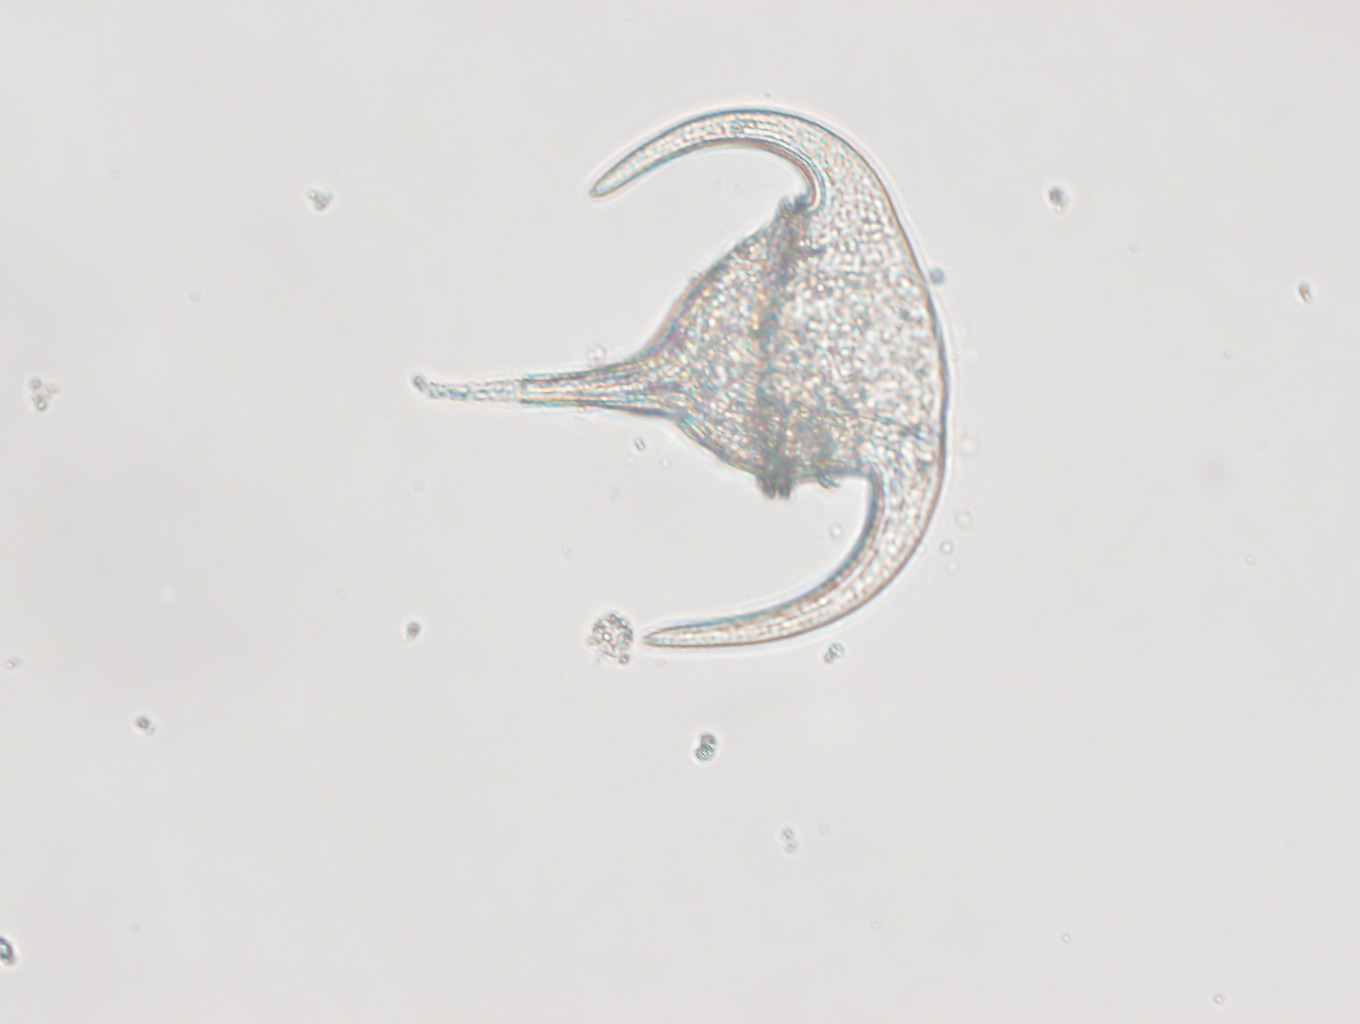ceratium tripos: (412, 102, 951, 651)
